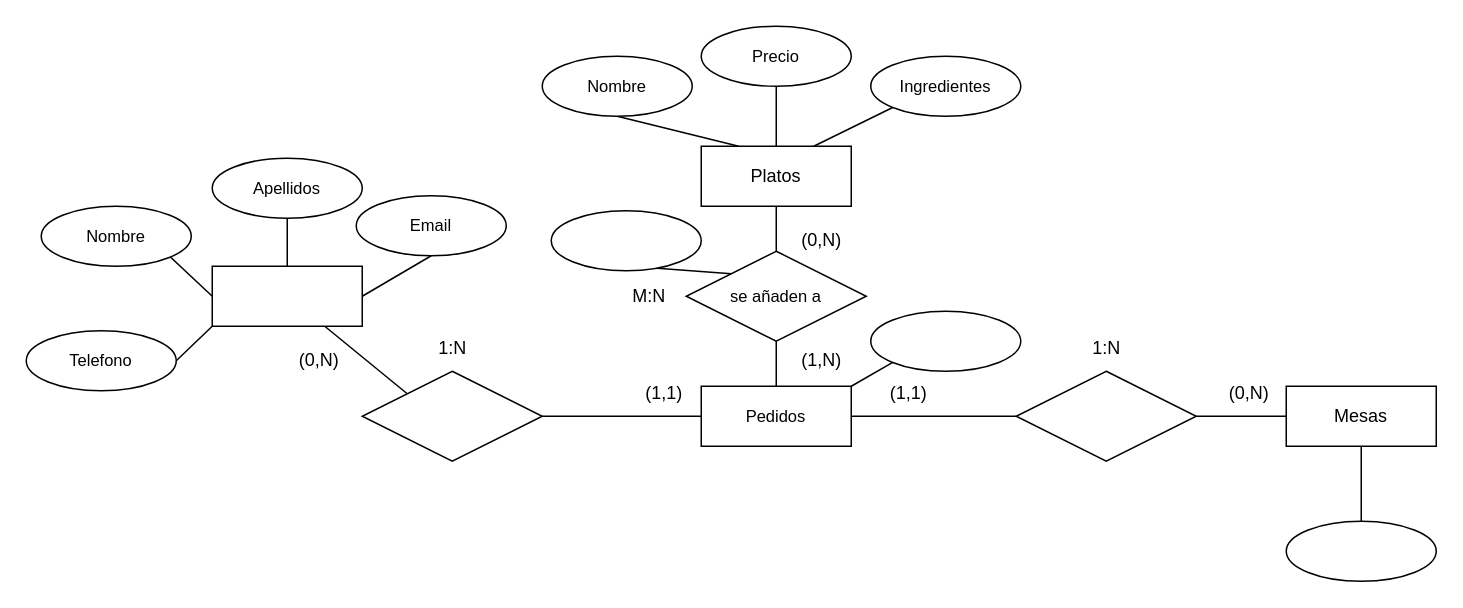
The diagram is 1463 pixels wide and 608 high, and some of its shapes have lost their labels. The centre of each missing label's shape, as x and y in pixels:
"Cantidad" goes at (625,240).
"Clientes" goes at (286,295).
"Nº de mesa" goes at (1360,550).
"piden" goes at (451,415).
"se asigna" goes at (1105,415).
"Total" goes at (945,340).
